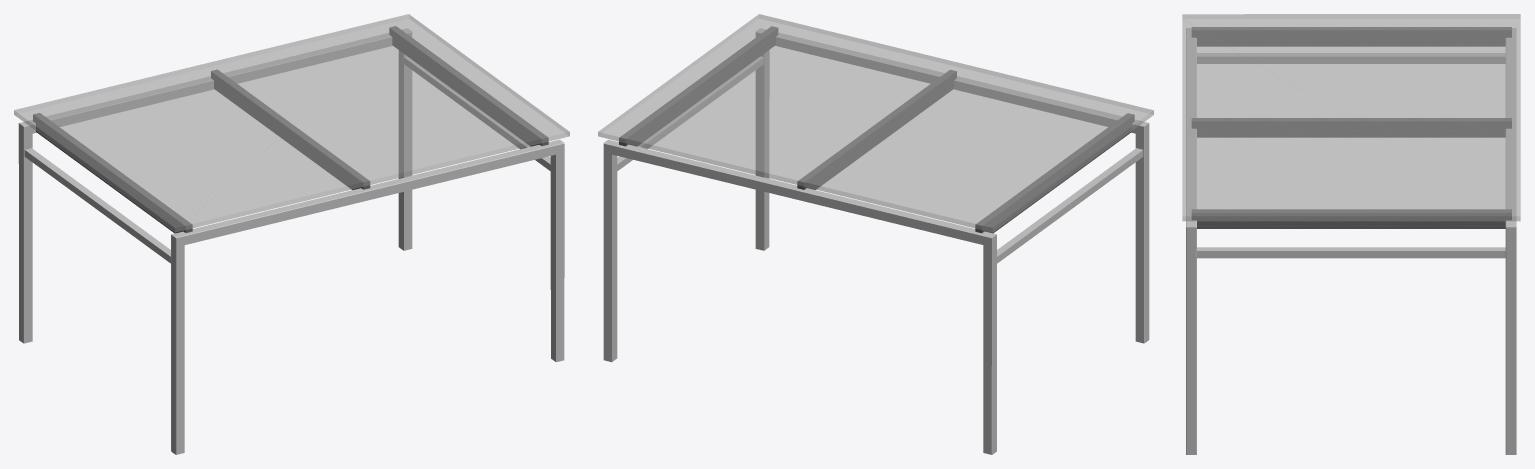
File: Office_Meeting_Desk.fbx
The picture shows the model from 3 angles, left to right: view 1: azimuth 30°, elevation 25°; view 2: azimuth 150°, elevation 25°; view 3: azimuth 270°, elevation 25°; orthographic projection. The views are drawn at different scales.
Parts seen in each view (by area): view 1: Office_Meeting_Desk; view 2: Office_Meeting_Desk; view 3: Office_Meeting_Desk.
Part boxes in pixels (x1,y1,x2,y2): Office_Meeting_Desk: (14, 14, 569, 454); Office_Meeting_Desk: (598, 14, 1153, 454); Office_Meeting_Desk: (1182, 14, 1520, 454).
Size of the model in its own units: 137 by 75.74 by 96.49.
